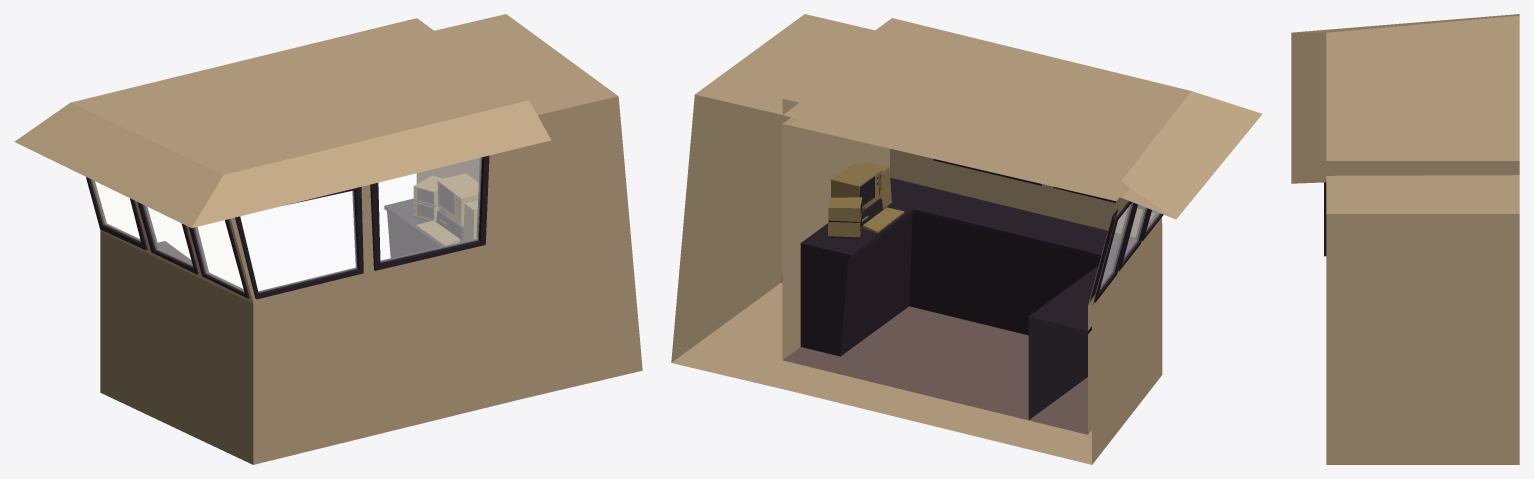
The model's file is DeskComputer1_a1.glb.
3 views of the same model, side by side, from view 1: azimuth 30°, elevation 25°; view 2: azimuth 150°, elevation 25°; view 3: azimuth 270°, elevation 25° (orthographic). The views are drawn at different scales.
Parts seen in each view (by area): view 1: ShipCabin, Comp2, CounterTop2, SmallComp2.1; view 2: ShipCabin, CounterTop2, Comp2, SmallComp2.1; view 3: ShipCabin.
Part boxes in pixels (x1,y1,x2,y2): ShipCabin: (14, 14, 642, 464); Comp2: (416, 173, 478, 245); CounterTop2: (158, 199, 463, 263); SmallComp2.1: (413, 175, 442, 207); ShipCabin: (671, 14, 1262, 464); CounterTop2: (800, 177, 1135, 419); Comp2: (830, 161, 904, 233); SmallComp2.1: (828, 197, 862, 222); ShipCabin: (1291, 14, 1519, 464).
Bounding box in the file's own units: 6.36 × 3.51 × 2.84.
